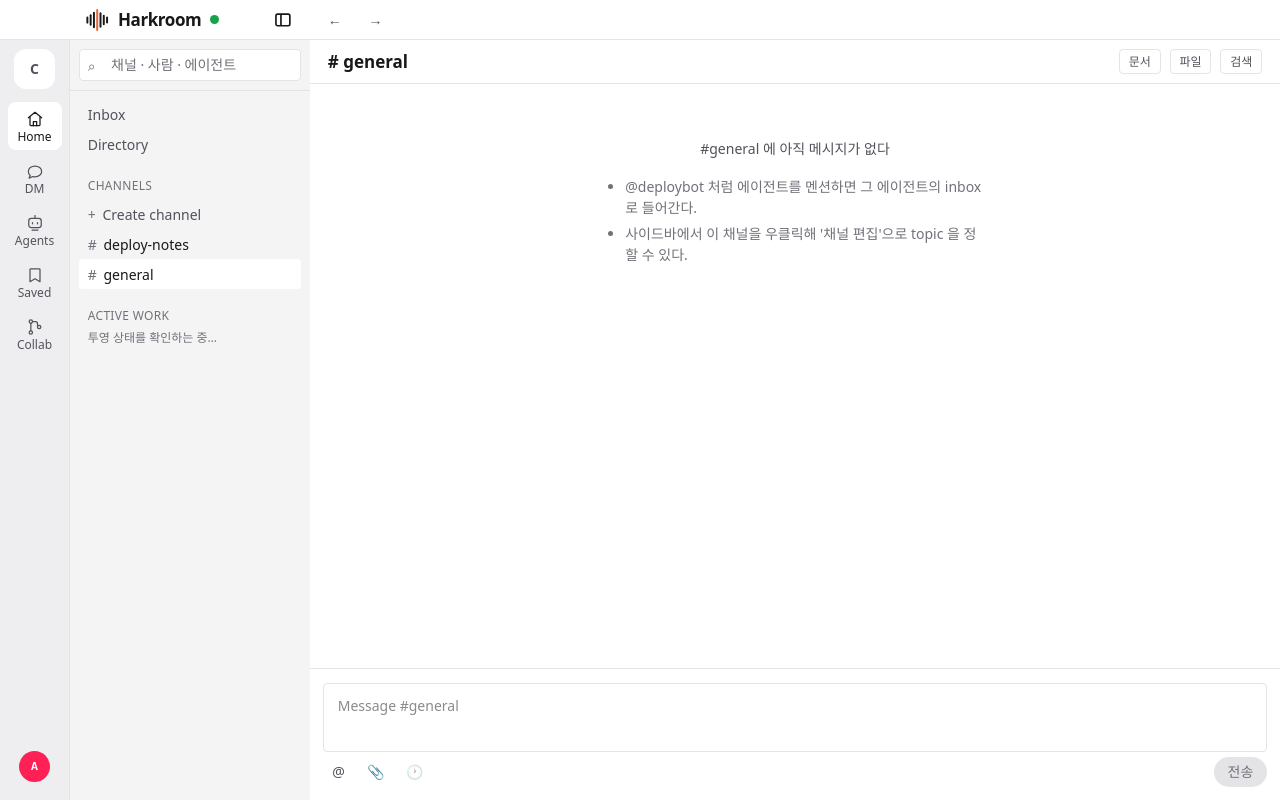
Test: 찾기가 사이드바 맨 위로 (A · 찾기가 맨 위로) › 4. 10px 돋보기가 사라진다 — 길이 둘이 되지 않는다 › 그 길이 채널 디렉터리를 실제로 연다 — Workspace 까지 배선돼 있다
This screenshot has width=1280, height=800.
Type "de" into the field with test id "sidebar-find".
click(190, 65); type("de")  # box [79, 49, 301, 81]
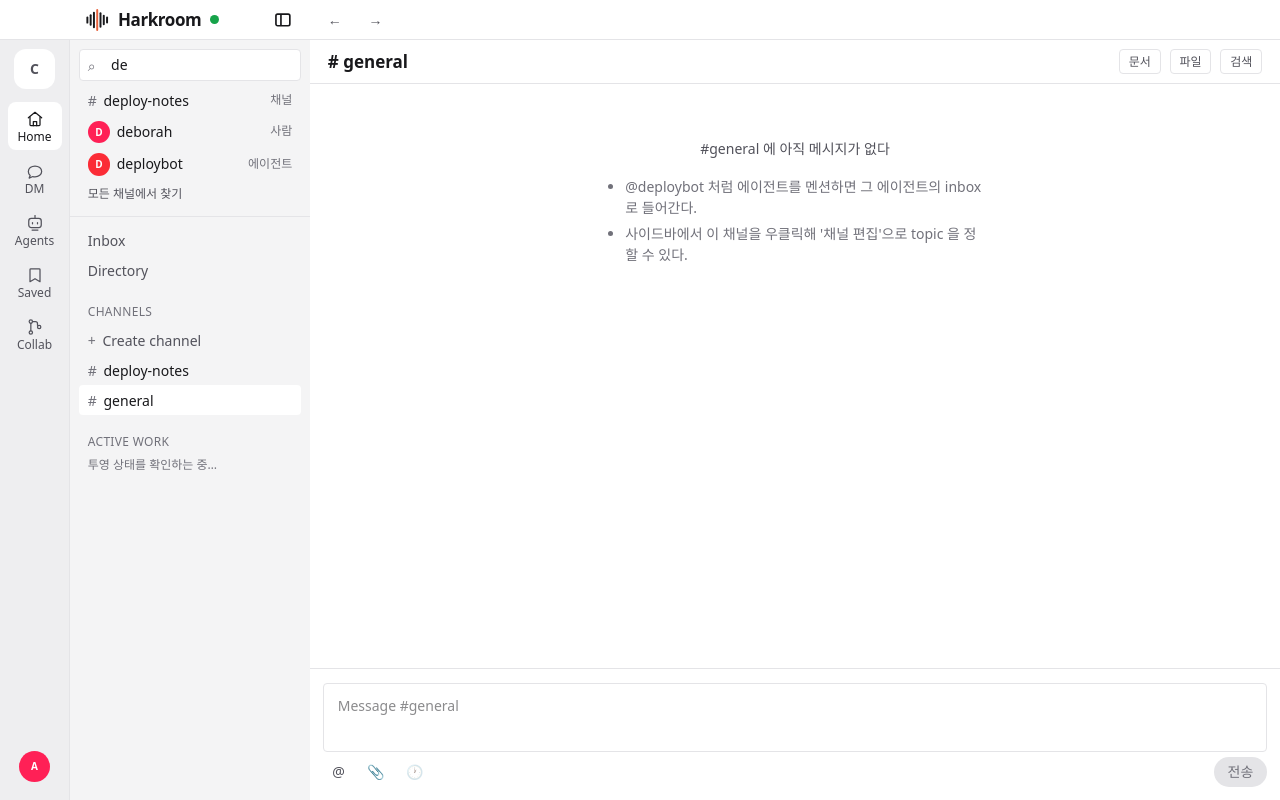
Click the button with test id "sidebar-find-all-channels".
click(190, 194)  # box [79, 180, 301, 207]
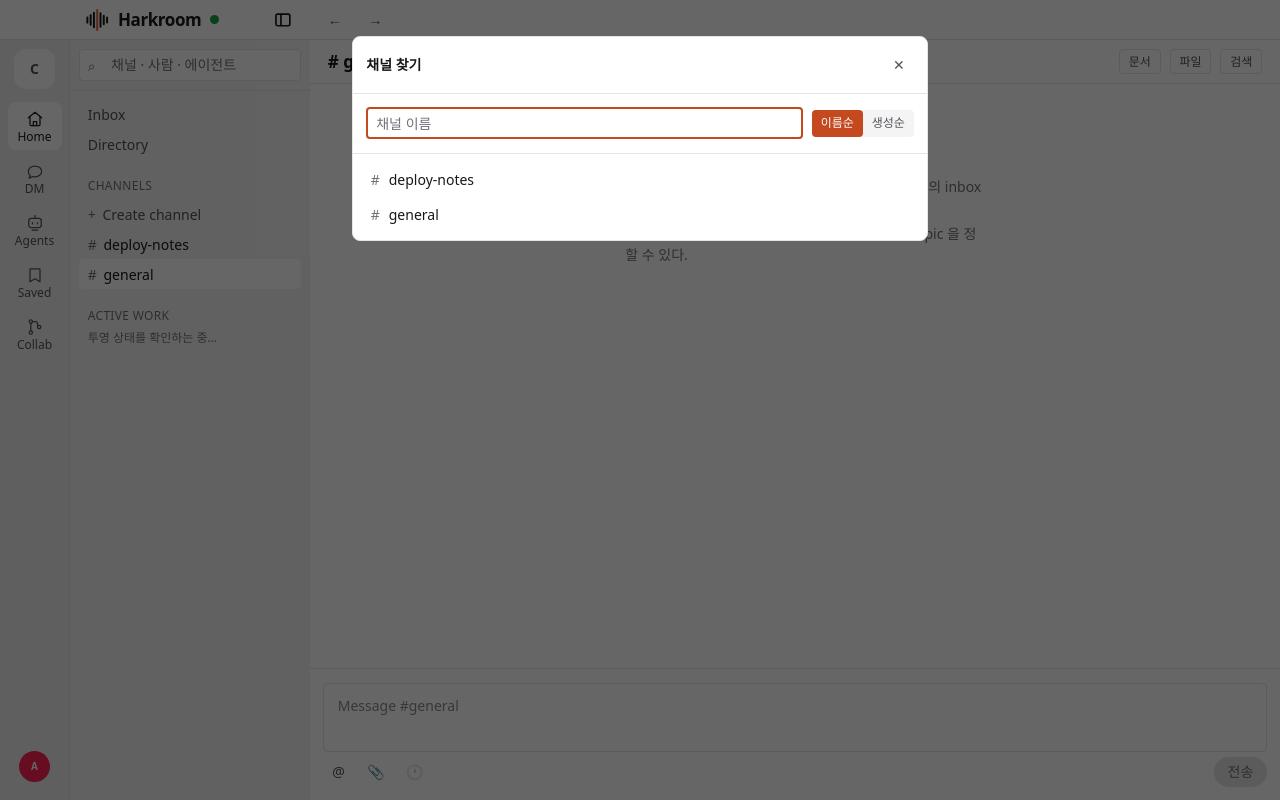
Result: the dialog named "채널 디렉터리" is shown at [352, 36, 928, 241]
